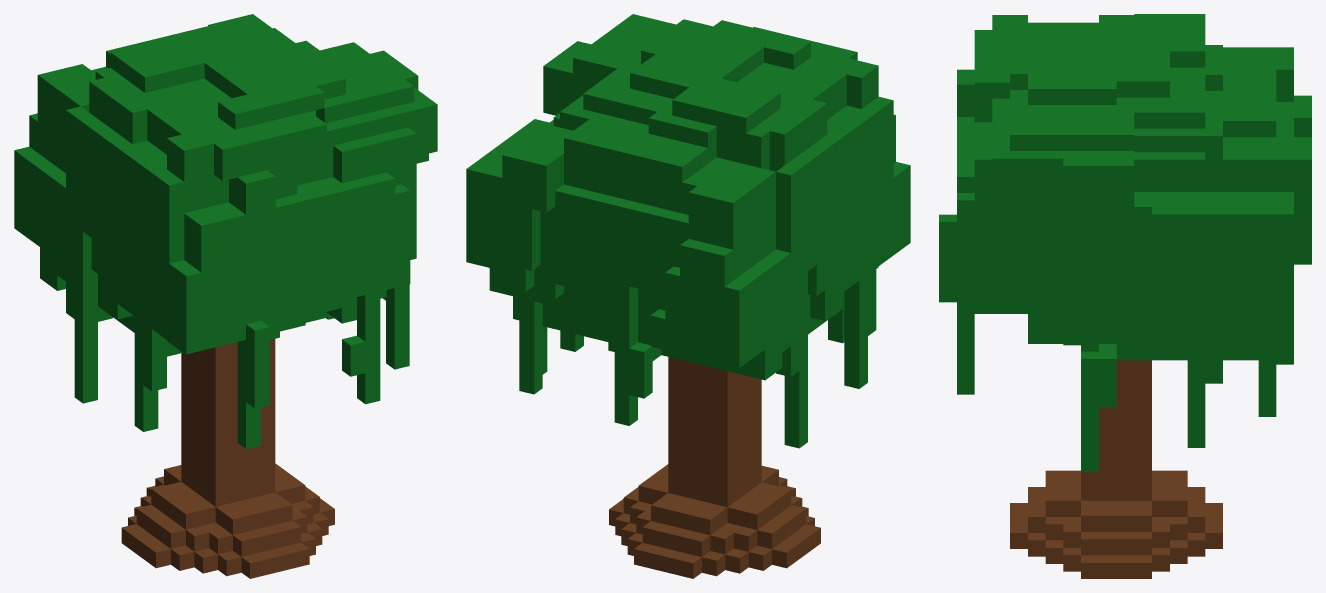
Rendered from tree_jungle_3.dae.
3 renders of one model, left to right at view 1: azimuth 30°, elevation 25°; view 2: azimuth 150°, elevation 25°; view 3: azimuth 270°, elevation 25°, orthographic. The views are drawn at different scales.
Visible parts, largest first — view 1: PlaneCOL; view 2: PlaneCOL; view 3: PlaneCOL.
Part boxes in pixels (left/top/right/bottom): PlaneCOL: left=14, top=14, right=437, bottom=578; PlaneCOL: left=466, top=14, right=910, bottom=578; PlaneCOL: left=939, top=14, right=1311, bottom=578.
Size of the model in its own units: 1.9 by 2.1 by 3.
